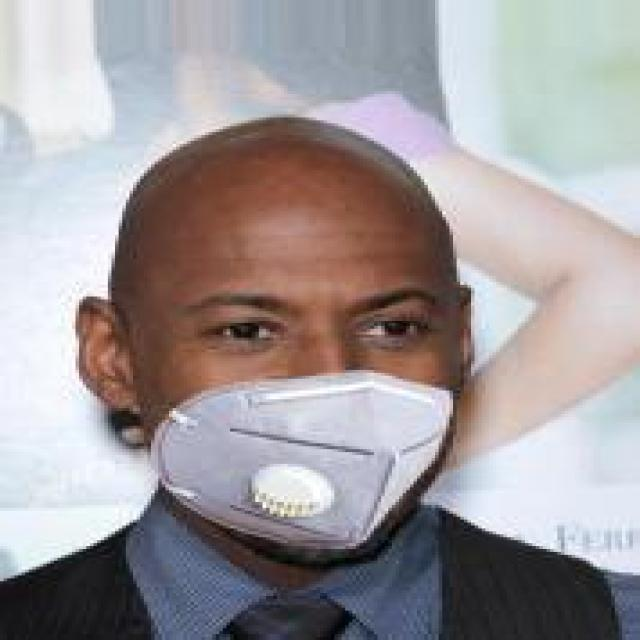mask: (61, 73, 532, 564)
